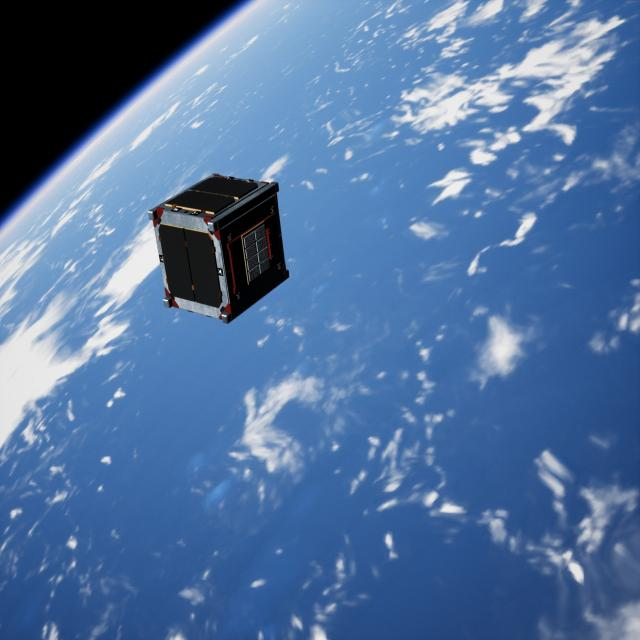satellite: (150, 172, 297, 322)
